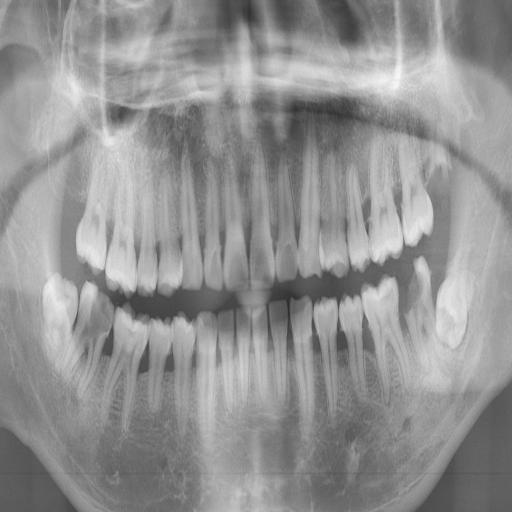Wisdom teeth: (43, 274, 77, 359), (436, 273, 472, 348)
